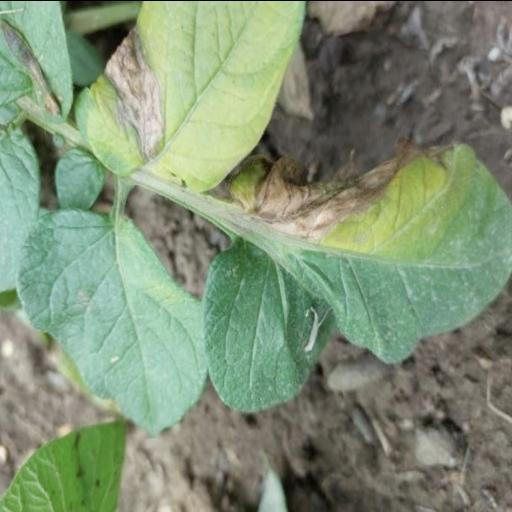disease_tomato: (202, 140, 512, 412), (76, 0, 309, 188)
